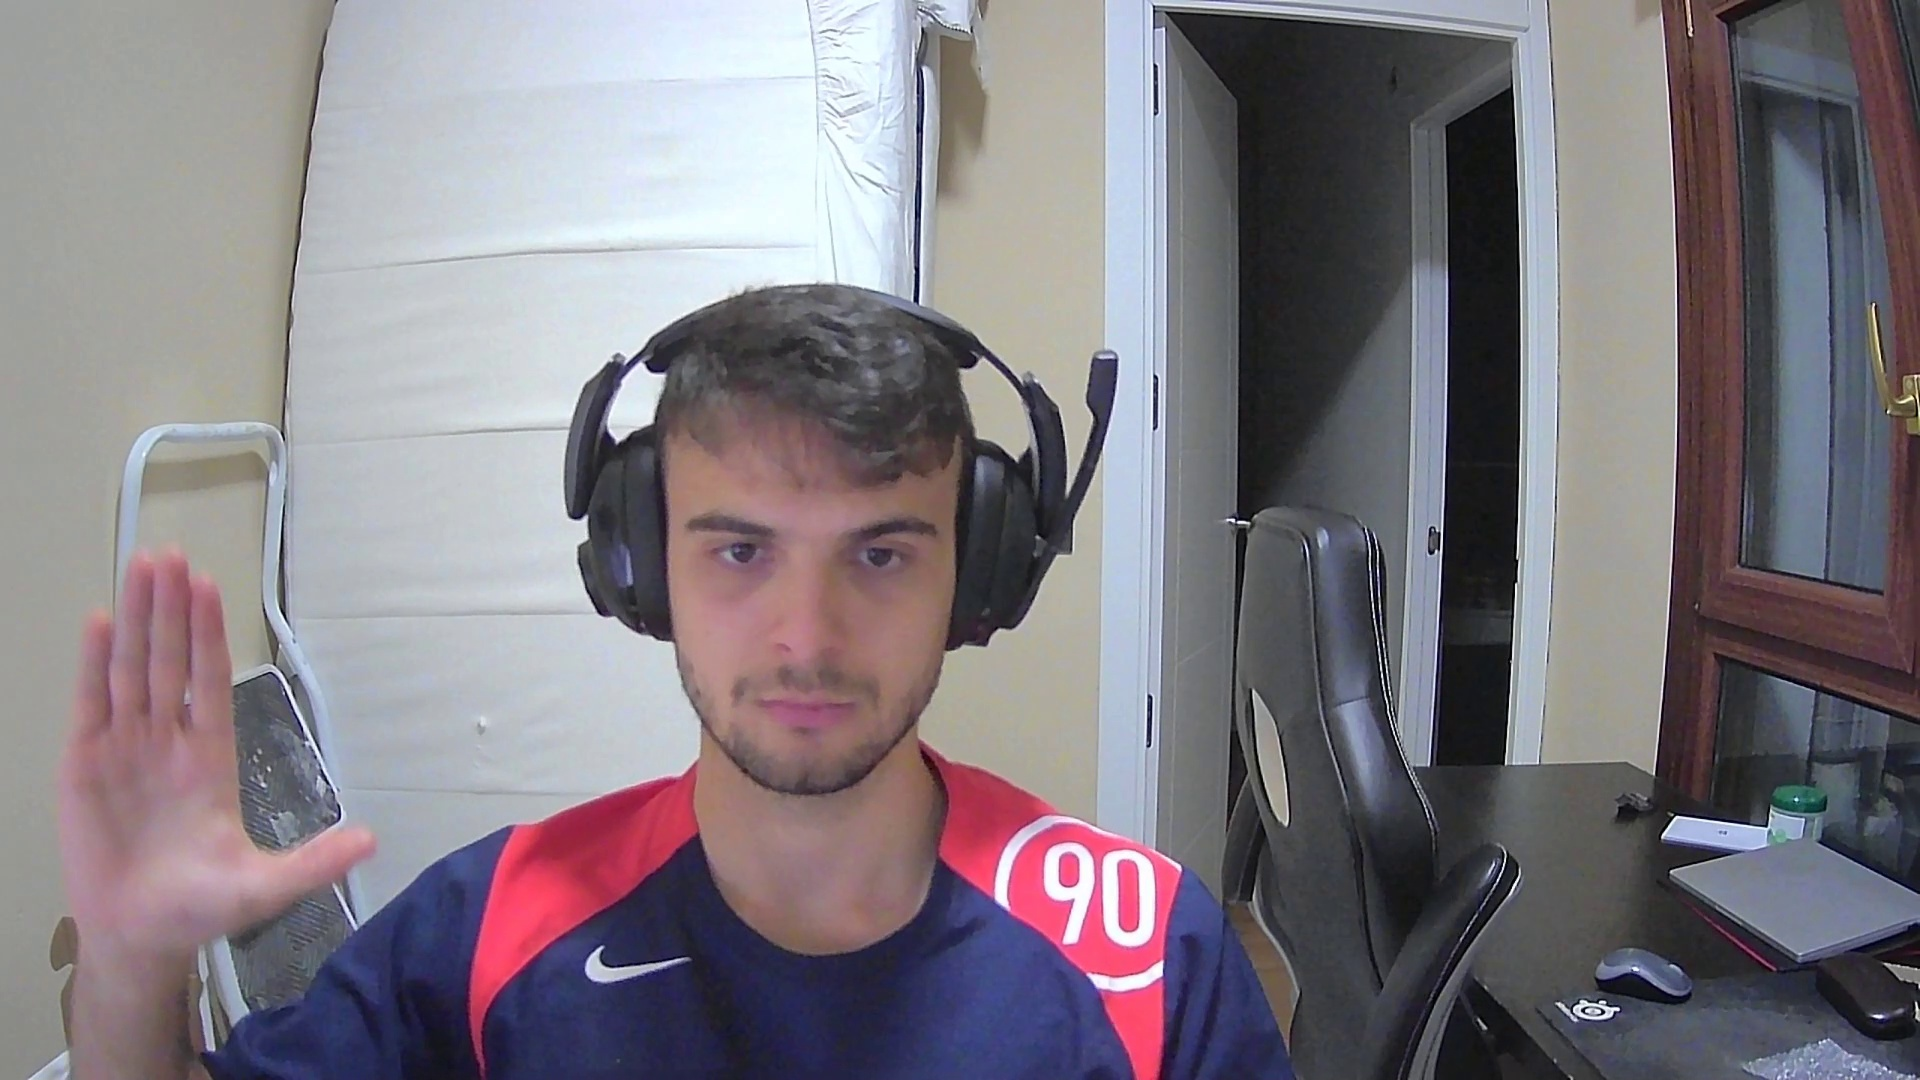Palm: (51, 546, 380, 943)
